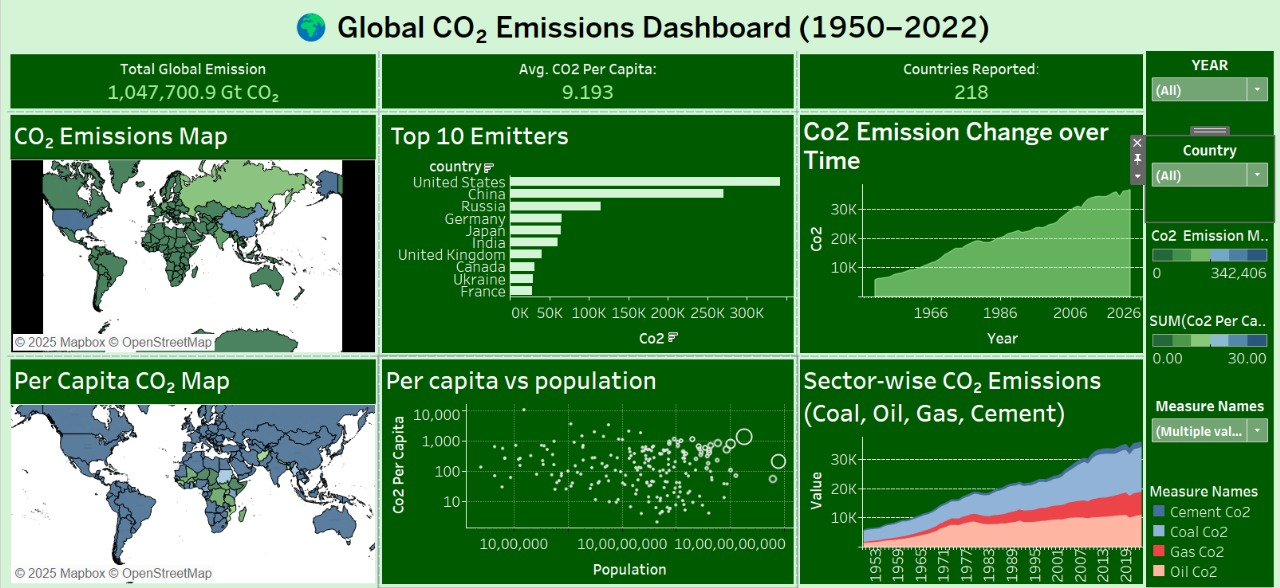

Layout of this report page (visuals, bound fields, positions):
{"tool":"tableau","page":{"name":"Dashboard 2","canvas":[1000,1000],"units":"permille","ordinal":2},"visuals":[{"type":"title","box":[5,10.7,990,76.4]},{"type":"worksheet","title":"KPI1: TOTAL GLOBAL EMISSON","mark":"Automatic","box":[5,87.1,290.6,101.8]},{"type":"worksheet","title":"KPI2 :Avg co2 per capita","mark":"Automatic","box":[295.6,87.1,326.6,101.8]},{"type":"worksheet","title":"# Countries Reporting","mark":"Text","box":[622.1,87.1,273.1,101.8]},{"type":"filter","title":"CO₂ Emissions Map","param":"[federated.0oxgaro1tpkwvq1basem41lsa4s1].[none:Calculation_1838313101153959937:o","box":[895.3,87.1,99.8,143.3]},{"type":"worksheet","title":"CO₂ Emissions Map","mark":"Automatic","box":[5,189,290.5,411.6]},{"type":"worksheet","title":" Top 10 Emitters ","mark":"Automatic","rows":["country"],"cols":["co2"],"box":[295.5,189,326.7,412.1]},{"type":"worksheet","title":"Co2 Trend","mark":"Area","rows":["co2"],"cols":["year"],"box":[622.2,189,273.1,412.1]},{"type":"filter","title":"CO₂ Emissions Map","param":"[federated.0oxgaro1tpkwvq1basem41lsa4s1].[none:country:nk]","box":[895.3,230.4,99.8,143.3]},{"type":"legend","title":"CO₂ Emissions Map","param":"[federated.0oxgaro1tpkwvq1basem41lsa4s1].[sum:co2:qk]","box":[895.3,373.8,99.8,143.3]},{"type":"legend","title":"Per Capita CO₂ Map","param":"[federated.0oxgaro1tpkwvq1basem41lsa4s1].[sum:co2_per_capita:qk]","box":[895.3,517.1,99.8,143.3]},{"type":"worksheet","title":"Per Capita CO₂ Map","mark":"Automatic","box":[5,600.5,290.5,388.8]},{"type":"worksheet","title":"Per capita vs population","mark":"Automatic","rows":["co2_per_capita"],"cols":["population"],"box":[295.5,601.1,326.7,388.2]},{"type":"worksheet","title":"Sector-wise CO₂ Emissions (Coal, Oil, Gas, Cement)","mark":"Area","cols":["Calculation_1838313101153959937"],"box":[622.2,601.1,273.1,388.2]},{"type":"filter","title":"Sector-wise CO₂ Emissions (Coal, Oil, Gas, Cement)","param":"[federated.0oxgaro1tpkwvq1basem41lsa4s1].[:Measure Names]","box":[895.3,660.4,99.8,143.4]},{"type":"legend","title":"Sector-wise CO₂ Emissions (Coal, Oil, Gas, Cement)","param":"[federated.0oxgaro1tpkwvq1basem41lsa4s1].[:Measure Names]","box":[895.3,803.8,99.8,185.5]}]}

Visuals, with their boxes on the dashboard's canvas, which has no fixed pixel size, in thousandths of its width and height (x1, y1, x2, y2). These are canvas units, not pixel positions in the 1280x588 screenshot, which may show the page scaled, cropped or inside an application window:
title: x1=5 y1=11 x2=995 y2=87
"KPI1: TOTAL GLOBAL EMISSON" worksheet: x1=5 y1=87 x2=296 y2=189
"KPI2 :Avg co2 per capita" worksheet: x1=296 y1=87 x2=622 y2=189
"# Countries Reporting" worksheet (Text marks): x1=622 y1=87 x2=895 y2=189
"CO₂ Emissions Map" filter: x1=895 y1=87 x2=995 y2=230
"CO₂ Emissions Map" worksheet: x1=5 y1=189 x2=296 y2=601
" Top 10 Emitters " worksheet: x1=296 y1=189 x2=622 y2=601
"Co2 Trend" worksheet (Area marks): x1=622 y1=189 x2=895 y2=601
"CO₂ Emissions Map" filter: x1=895 y1=230 x2=995 y2=374
"CO₂ Emissions Map" legend: x1=895 y1=374 x2=995 y2=517
"Per Capita CO₂ Map" legend: x1=895 y1=517 x2=995 y2=660
"Per Capita CO₂ Map" worksheet: x1=5 y1=600 x2=296 y2=989
"Per capita vs population" worksheet: x1=296 y1=601 x2=622 y2=989
"Sector-wise CO₂ Emissions (Coal, Oil, Gas, Cement)" worksheet (Area marks): x1=622 y1=601 x2=895 y2=989
"Sector-wise CO₂ Emissions (Coal, Oil, Gas, Cement)" filter: x1=895 y1=660 x2=995 y2=804
"Sector-wise CO₂ Emissions (Coal, Oil, Gas, Cement)" legend: x1=895 y1=804 x2=995 y2=989
